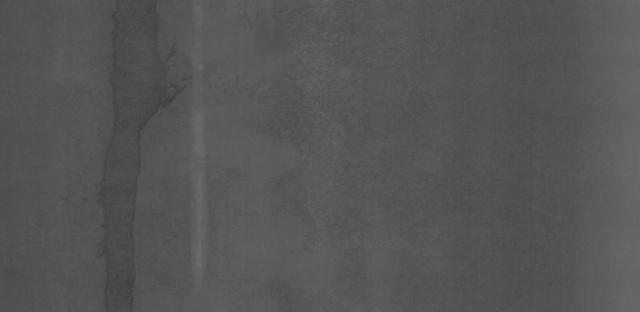water_spot: (82, 22, 185, 312)
